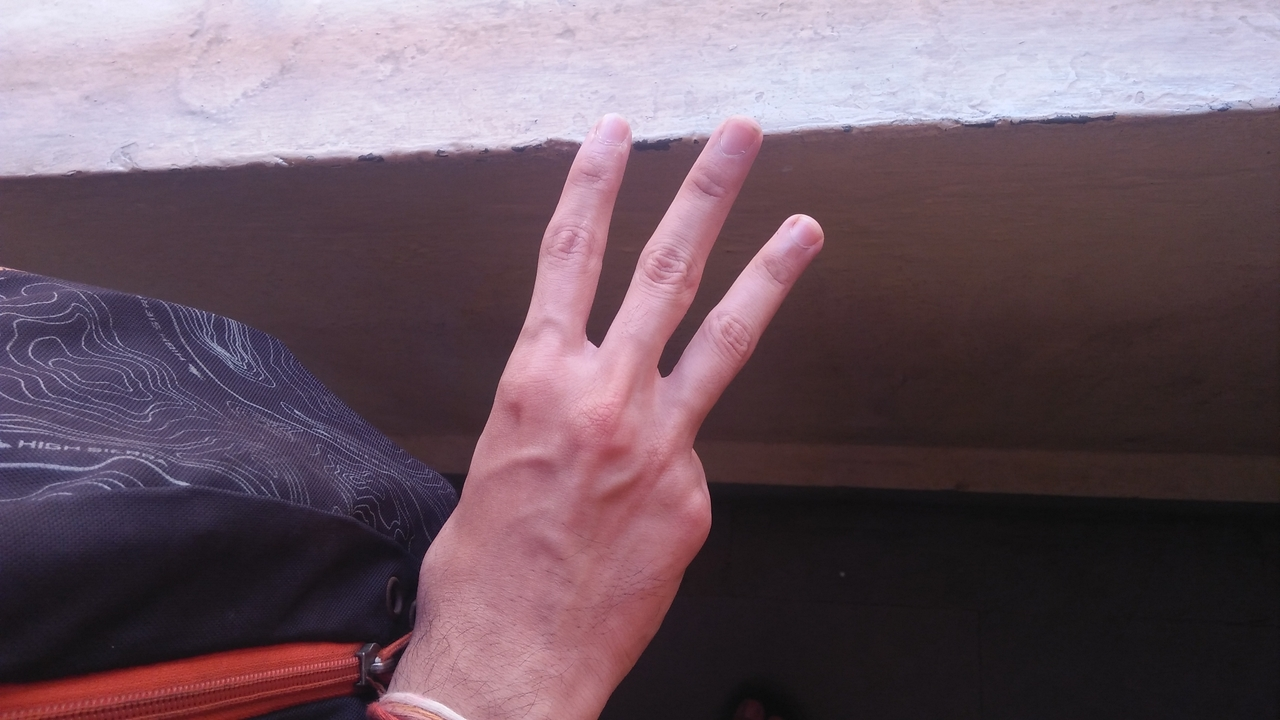fingertip: (772, 200, 832, 262), (706, 112, 766, 158), (580, 110, 636, 152)
